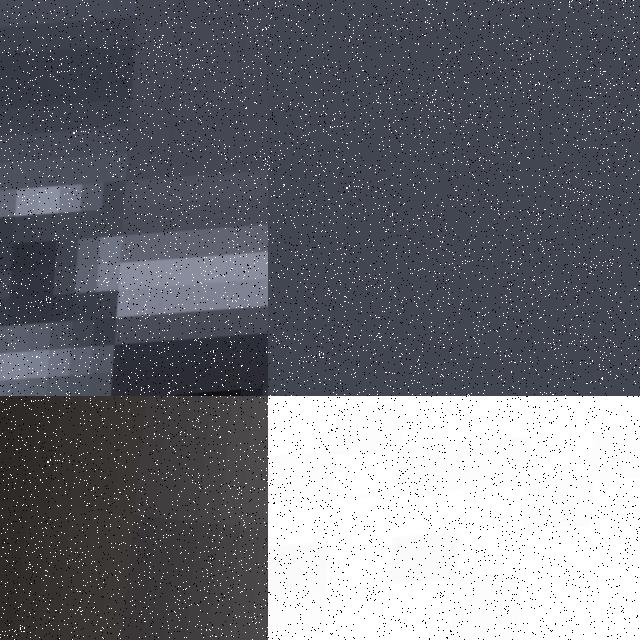0: (0, 0, 268, 396)
drone: (268, 396, 640, 640)
